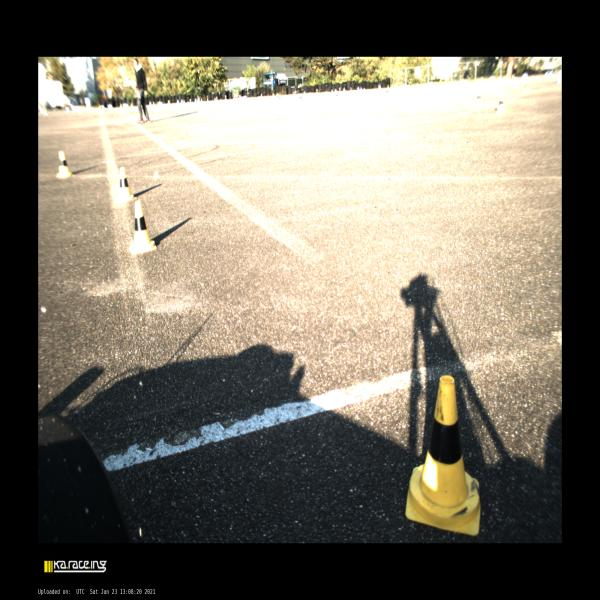blue_cone: (176, 99, 180, 105), (180, 98, 184, 104), (182, 99, 186, 105), (149, 101, 152, 107), (194, 98, 197, 103)
yellow_cone: (406, 375, 480, 536), (129, 200, 157, 253), (114, 167, 137, 202), (56, 151, 71, 178), (494, 94, 508, 116), (119, 103, 123, 110), (152, 101, 156, 107), (188, 98, 192, 104), (206, 95, 209, 102), (167, 100, 171, 105), (130, 103, 133, 109), (201, 97, 203, 102)
